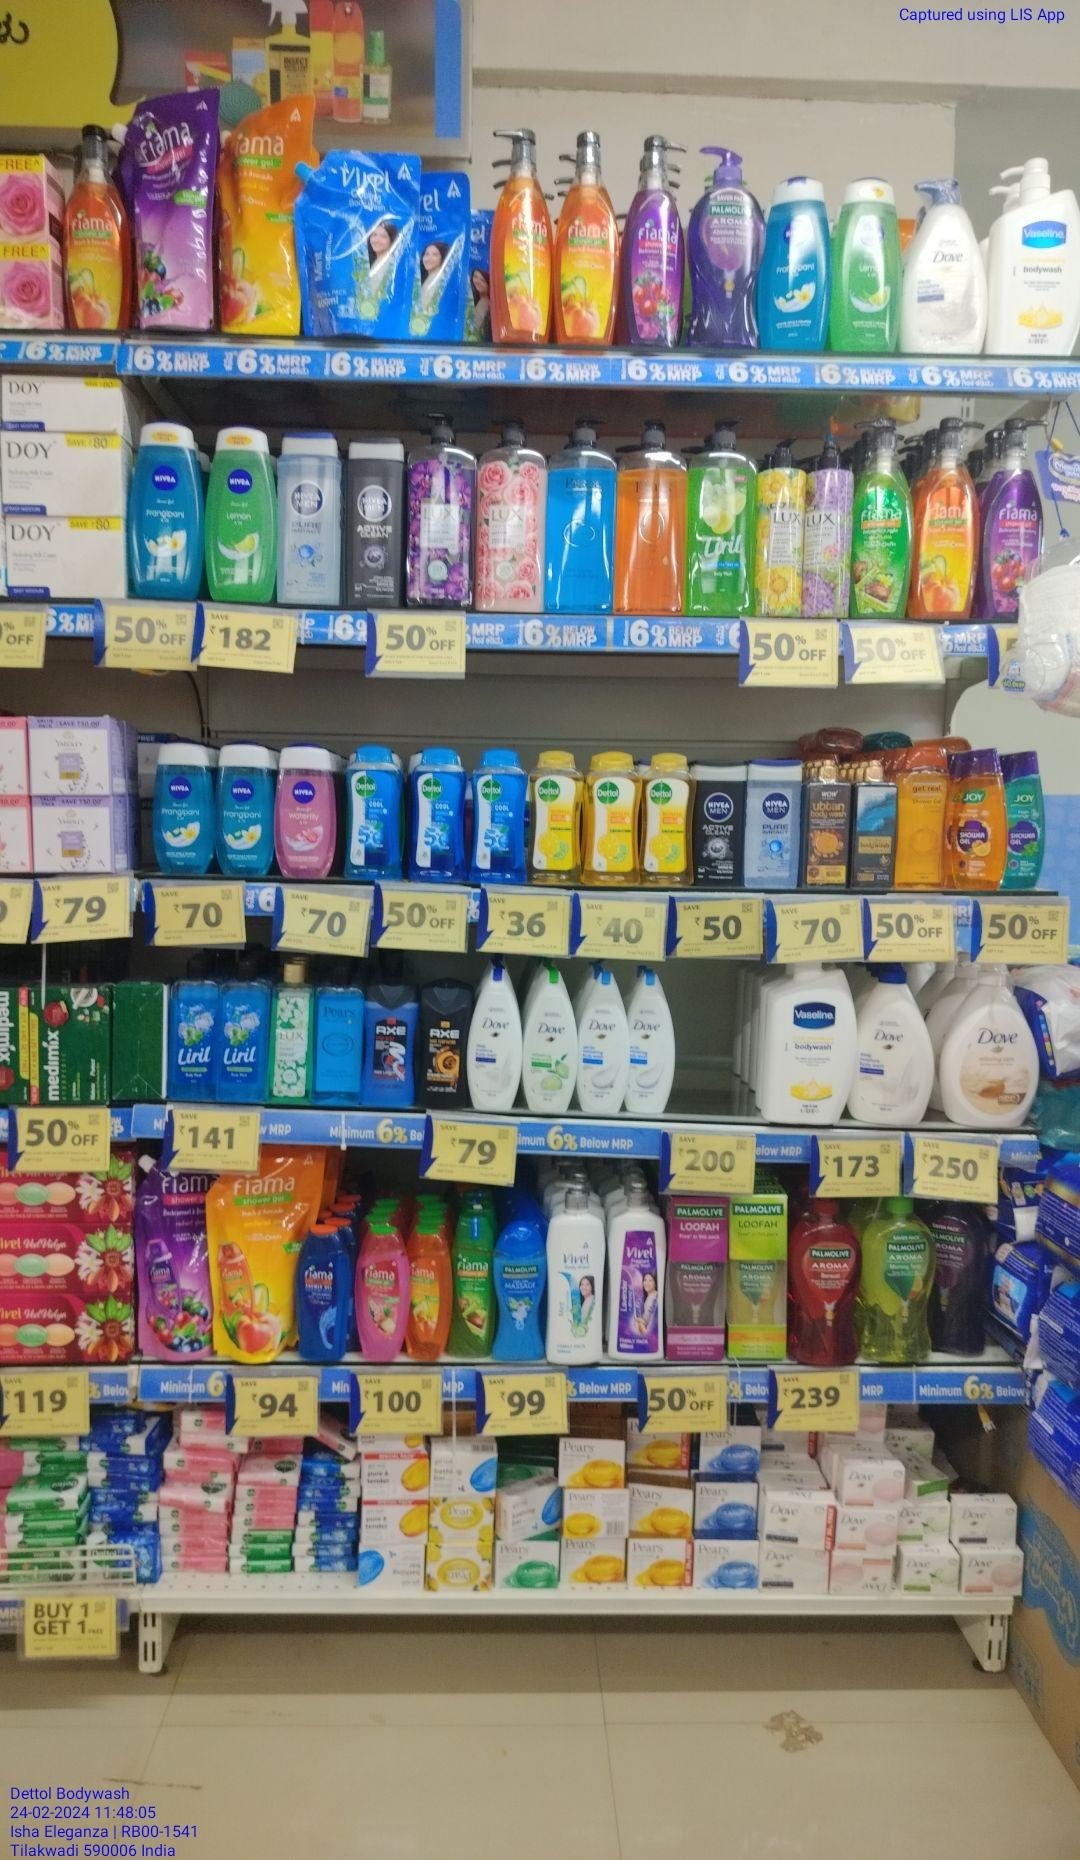Dettol_Bodywash_Cool: (411, 747, 471, 882), (473, 747, 528, 884), (346, 746, 401, 878)
Dettol_Bodywash_Refresh: (531, 749, 585, 887), (588, 755, 643, 886), (645, 753, 694, 888)
Dove_Deep_Moisture_Body_Wash_250ML: (465, 969, 521, 1111)
Dove_Gentle_Exfoliating_Body_Wash_250ML: (577, 970, 627, 1116), (629, 968, 674, 1114)
Dove_Refreshing_Body_Wash_250ML: (523, 967, 576, 1114)
Fiama_Shower_Gel_Patchouli_and_Macadamia_250ML: (355, 1226, 408, 1363)
Fiama_Shower_Gel_Peach_and_Avocado_250ML: (410, 1229, 450, 1360)
Get_Real_Shower_Gel_Moisturising_Glycerin_300ML: (900, 746, 945, 891)
Joy_Shower_Gel_Mandarin_and_Lemongrass_250ML: (955, 748, 1005, 892)
Joy_Shower_Gel_Mint_and_Eucalyptus_250ML: (1009, 748, 1044, 890)
Liril_Cooling_Mint_Body_Wash_250ML: (217, 959, 270, 1103), (171, 959, 217, 1102)
Lux_Body_Wash_Skin_Detox_Freesia_Scent_and_Alove_Vera_245ML: (274, 961, 311, 1103)
Nivea_Shower_Gel_Frangipani_and_Oil_250ML: (760, 176, 827, 351), (136, 423, 203, 595), (154, 742, 215, 875), (221, 744, 270, 881)
Nivea_Shower_Gel_Lemon_and_Oil_250ML: (210, 425, 276, 604), (834, 179, 903, 351)
Nivea_Shower_Gel_Waterlily_and_Oil_250ML: (280, 748, 337, 878)
Palmolive_Aroma_Moments_Feel_The_Massage_Shower_Gel_250ML: (492, 1230, 545, 1363)
Pears_Pure_Glycerin_and_Mint_Extracts_Body_Wash_250ML: (315, 960, 364, 1104)
